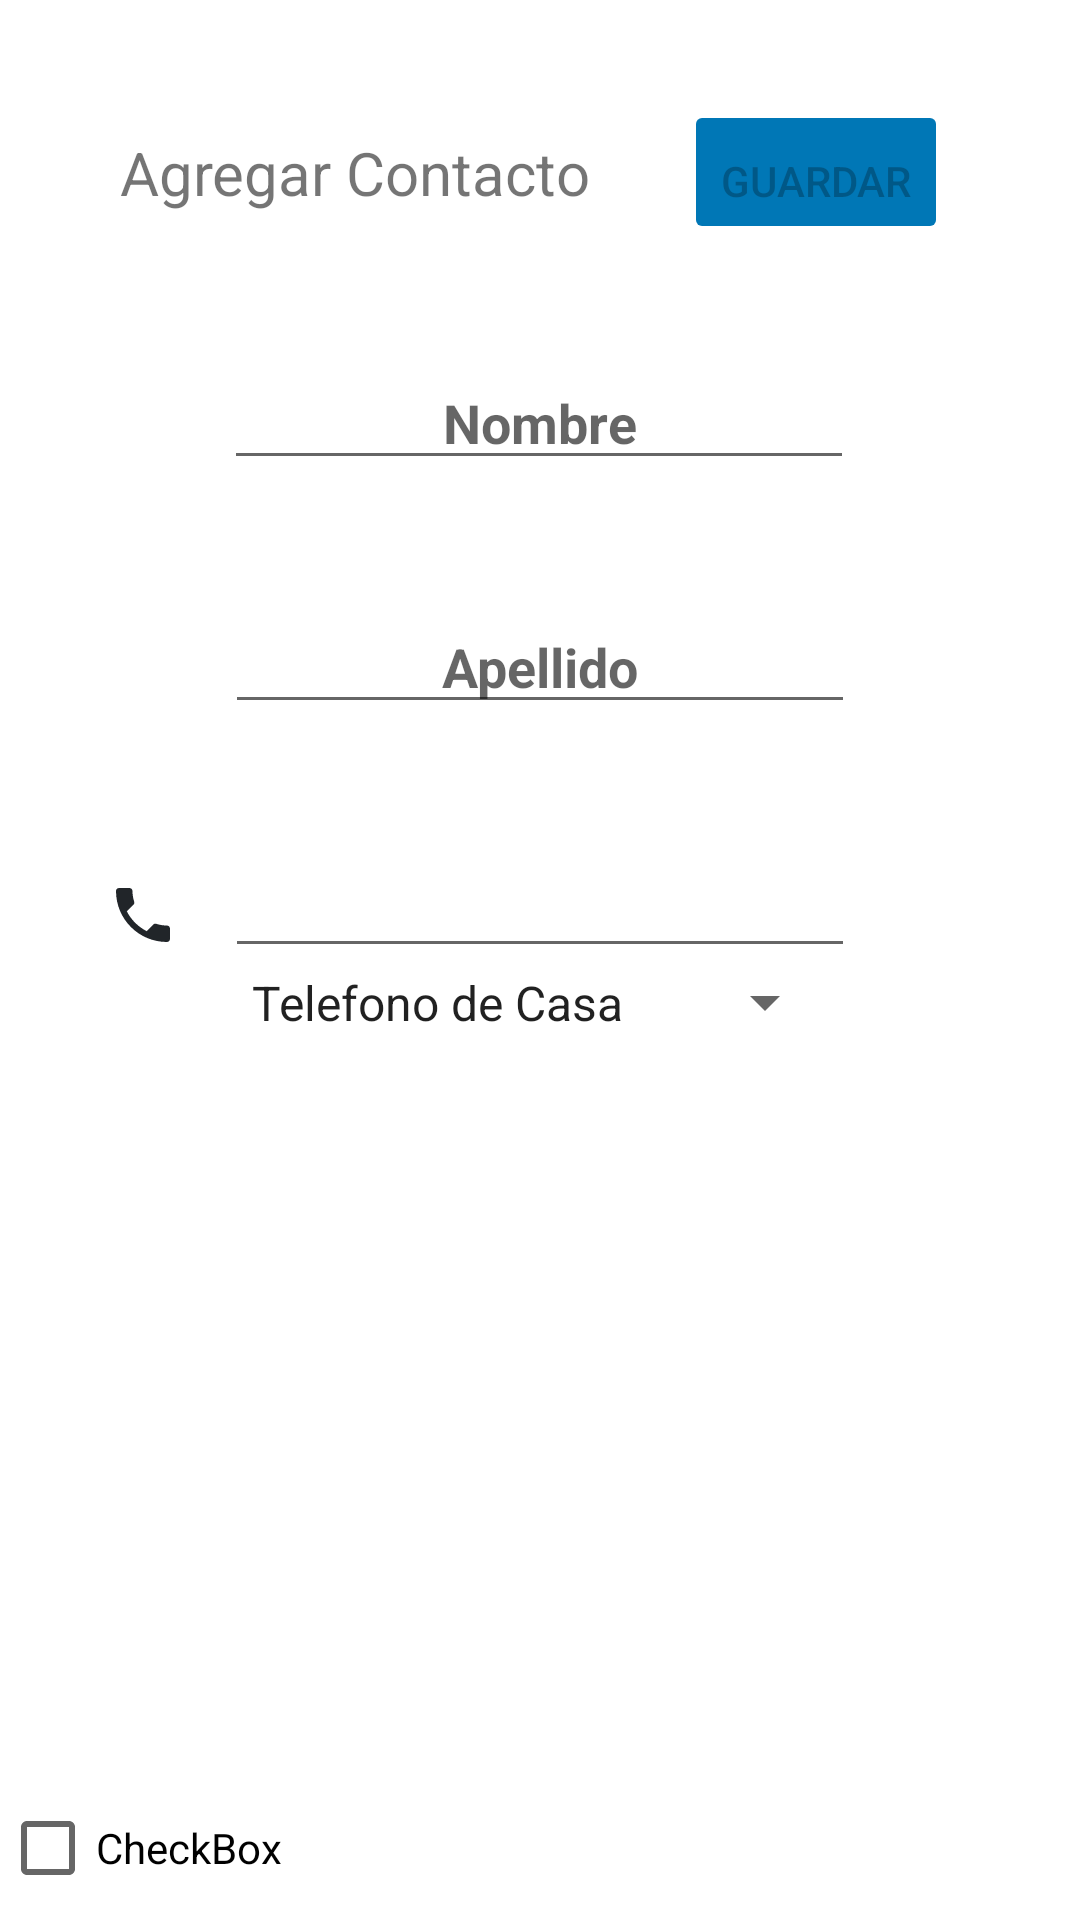

Where icons sit on this 1080x1920 app screen, as (x1, y1, x2, y2):
phone: (116, 888, 170, 942)
